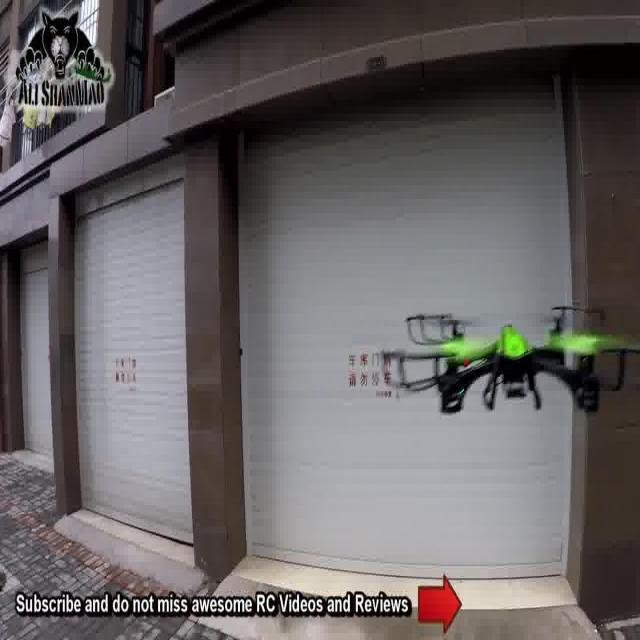drone: (380, 296, 640, 420)
